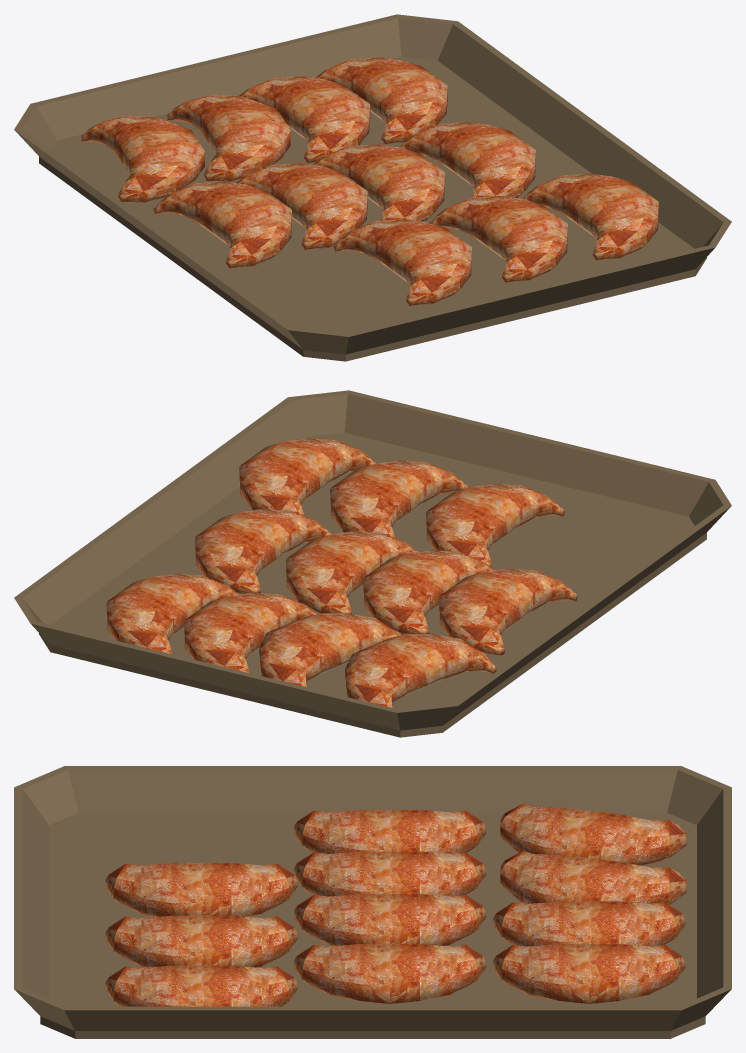
File: croissants.glb
3 views of the same model, one above another, from view 1: azimuth 30°, elevation 25°; view 2: azimuth 150°, elevation 25°; view 3: azimuth 270°, elevation 25° (orthographic). The views are drawn at different scales.
Visible parts, largest first — view 1: croissants; view 2: croissants; view 3: croissants.
Part boxes in pixels (bbox=[...]): croissants: bbox=[14, 14, 731, 361]; croissants: bbox=[14, 390, 731, 737]; croissants: bbox=[14, 766, 731, 1038].
Bounding box in the file's own units: 0.4191 × 0.0334 × 0.5207.
2 materials, 1 textured.
